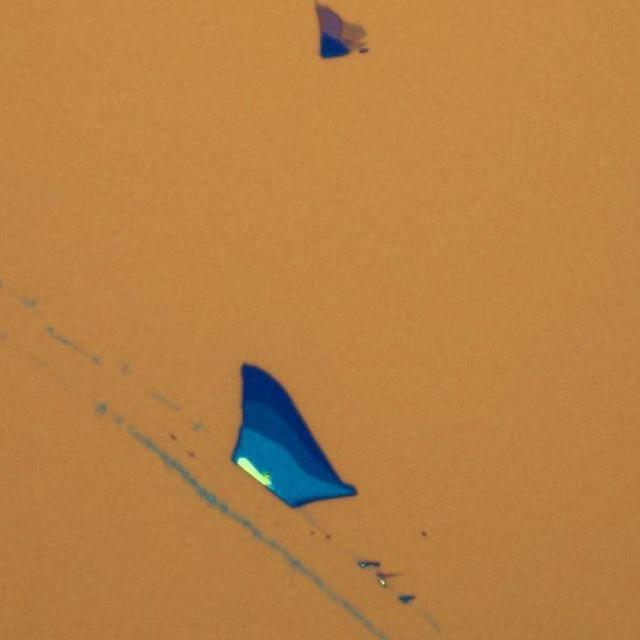monolayer-eWW4: (340, 22, 368, 48)
